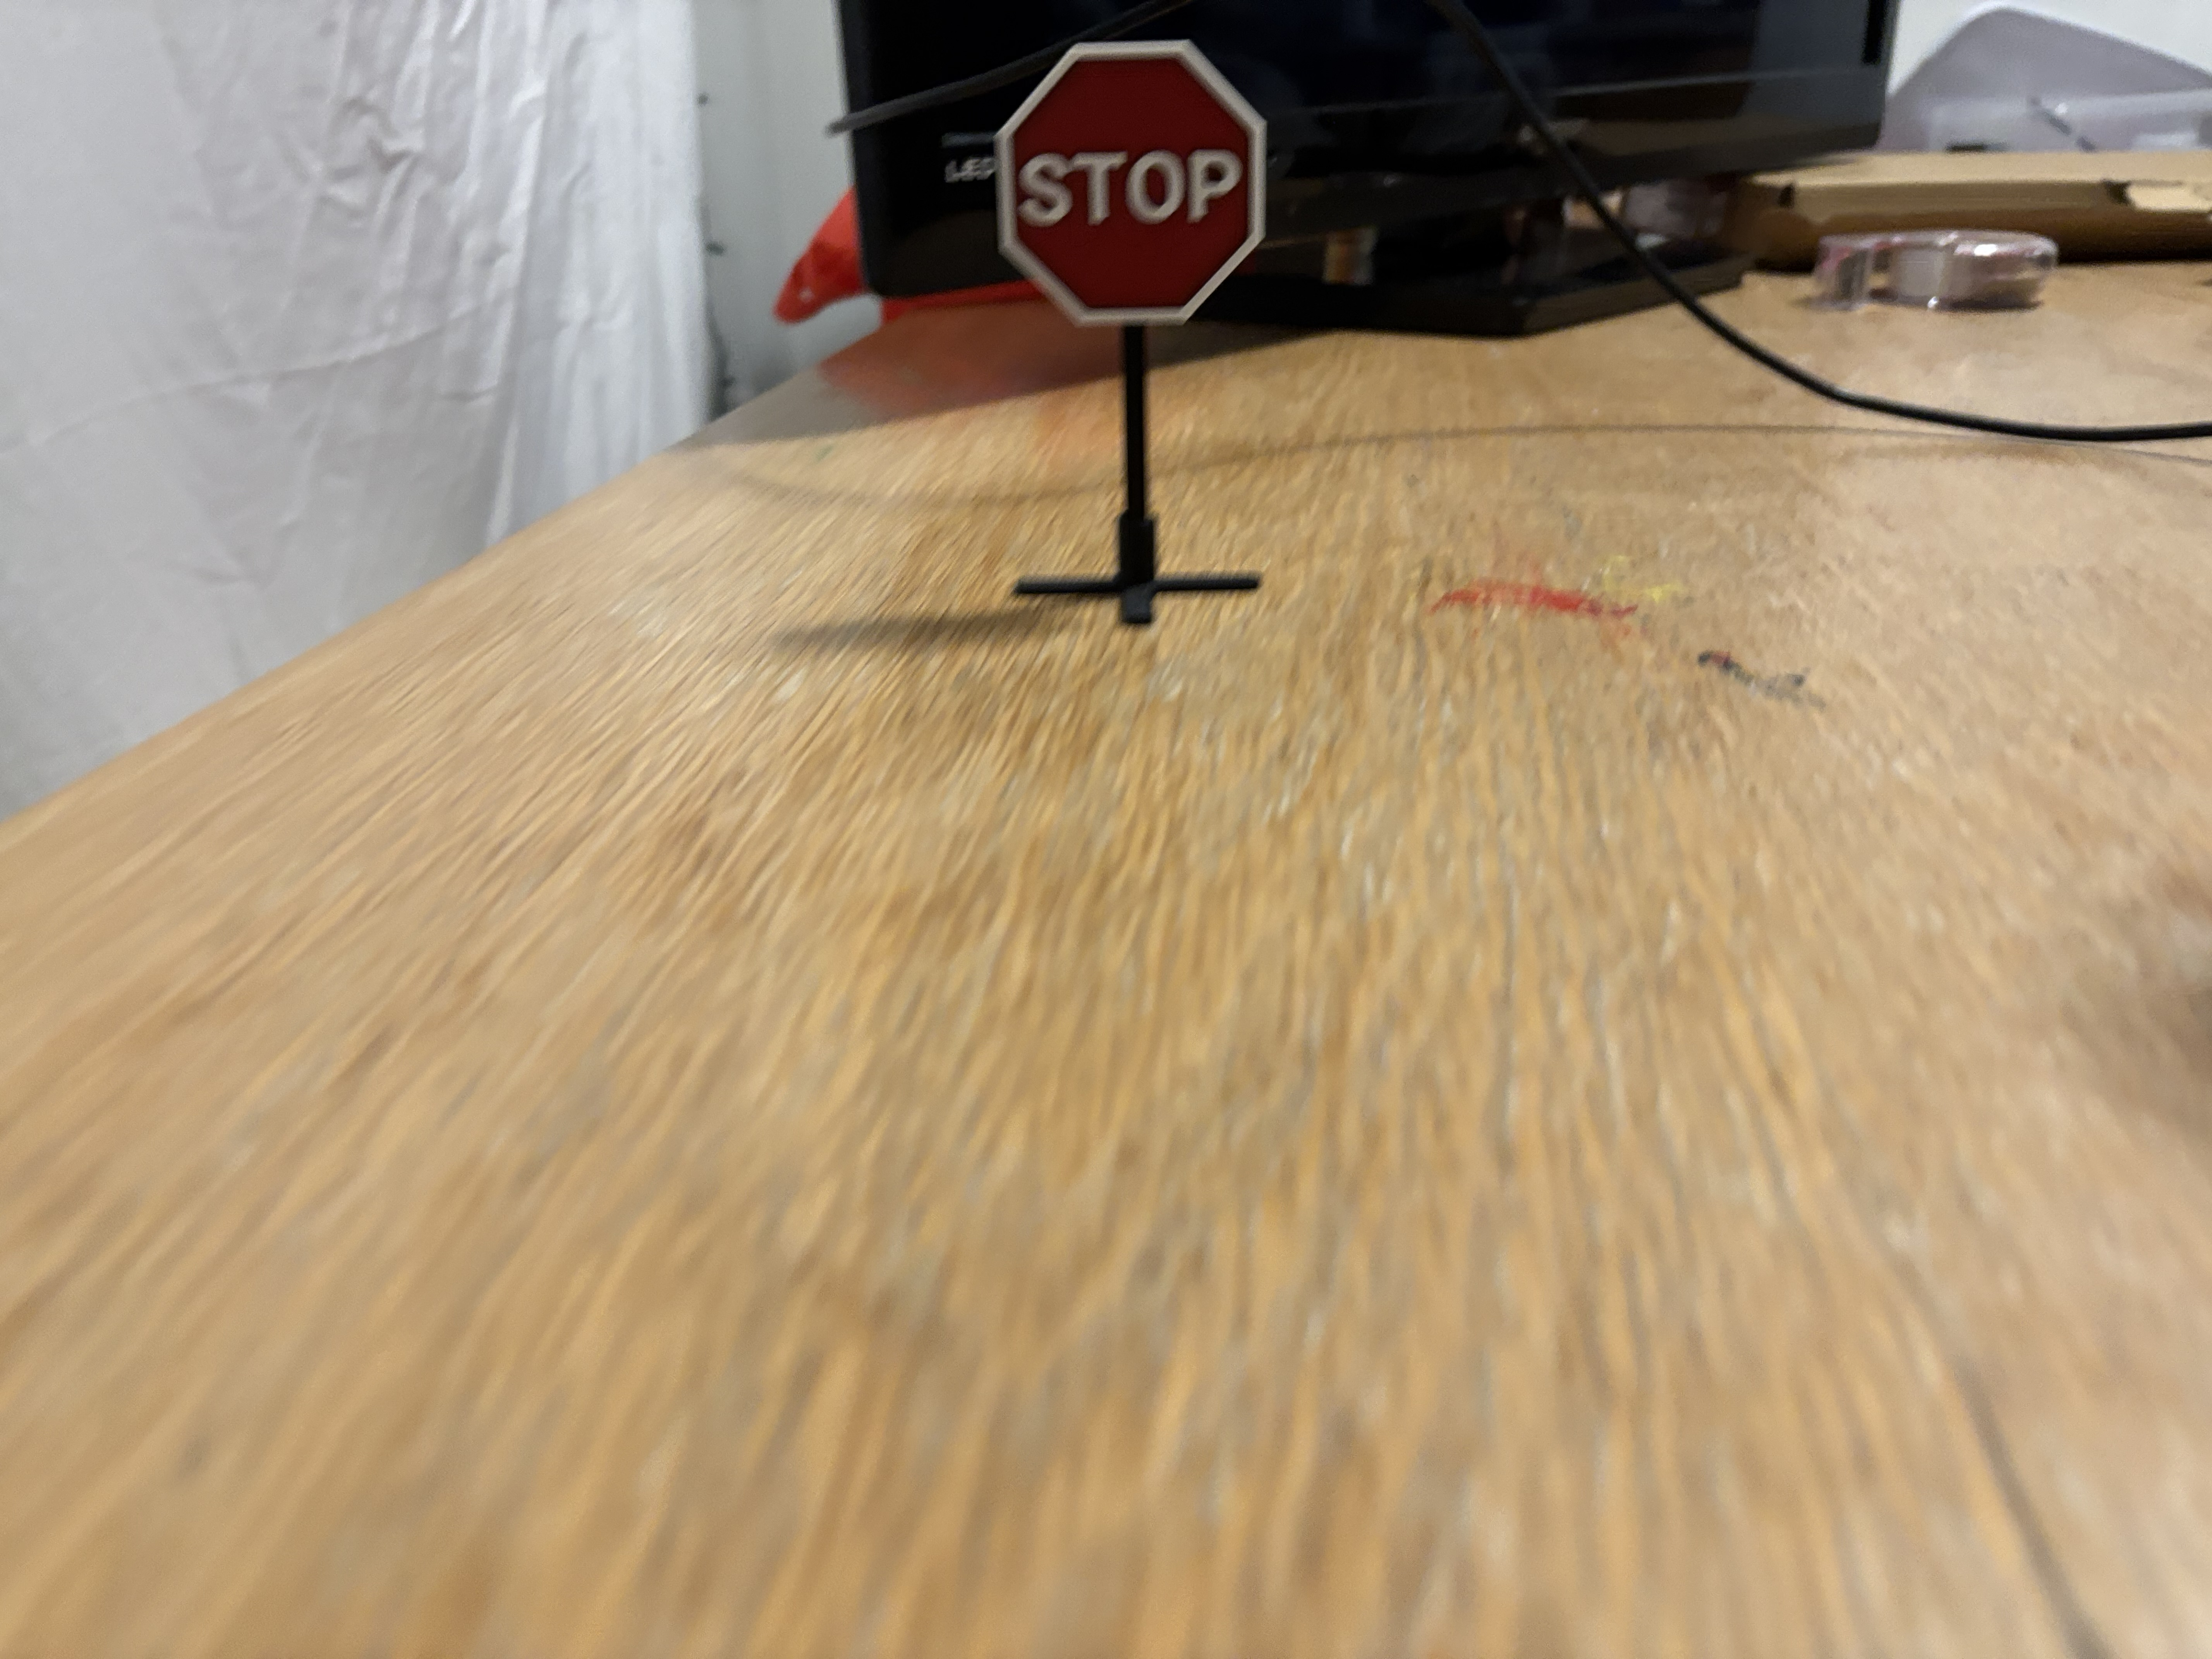sign_stop: (993, 35, 1284, 331)
